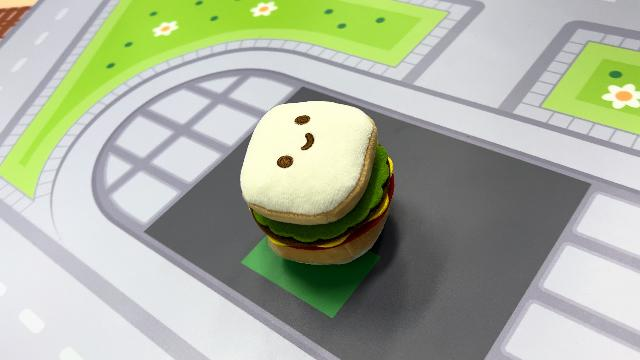sandwich: (238, 98, 396, 266)
